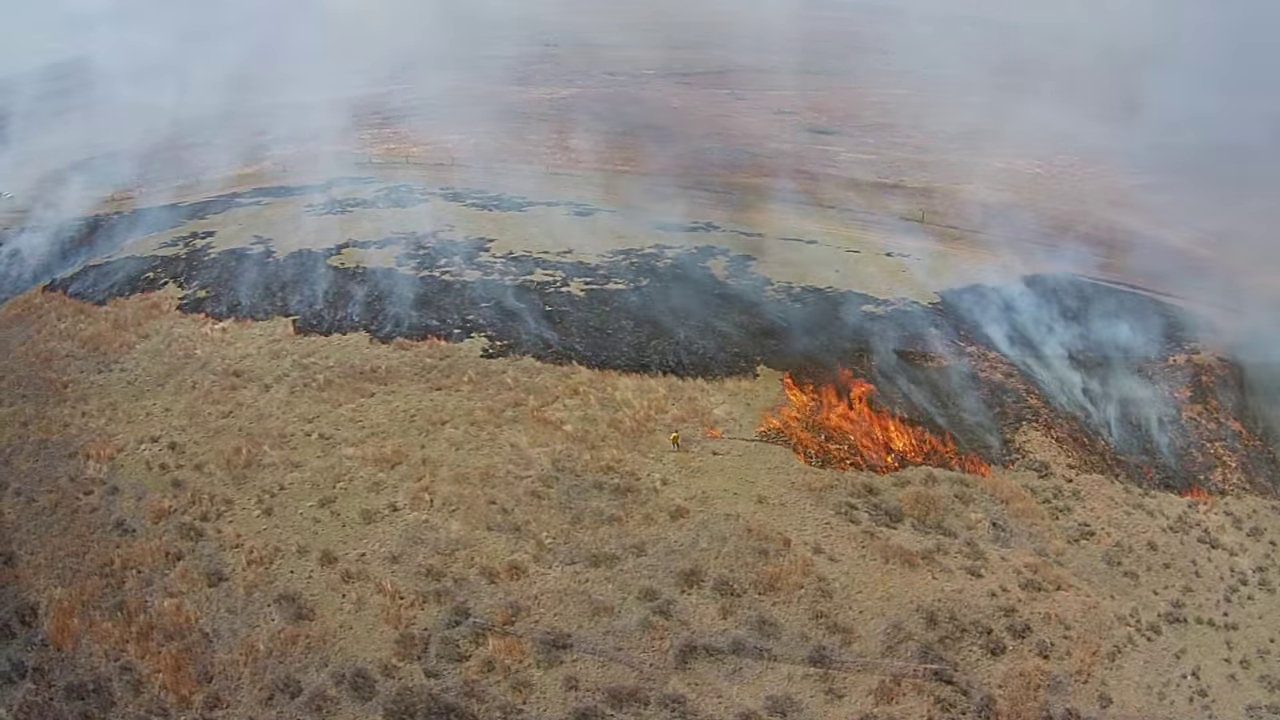forest_fire: (758, 368, 990, 473)
